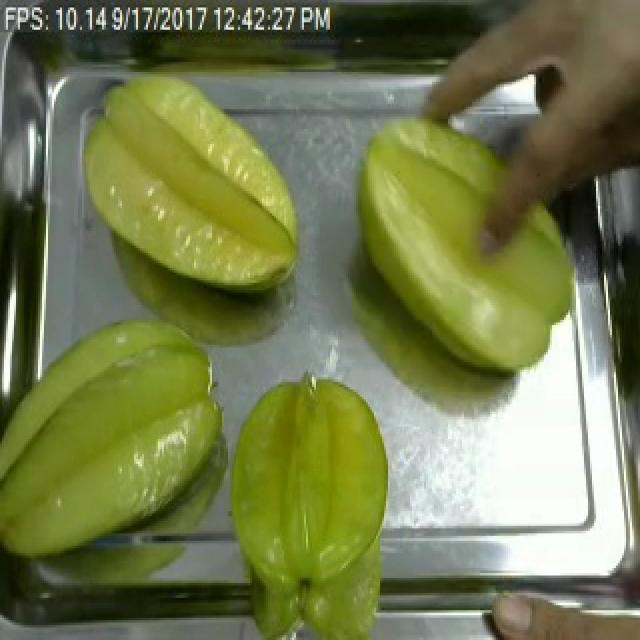fruit: (348, 104, 588, 390), (0, 298, 240, 573), (68, 62, 310, 300), (212, 364, 398, 640)
